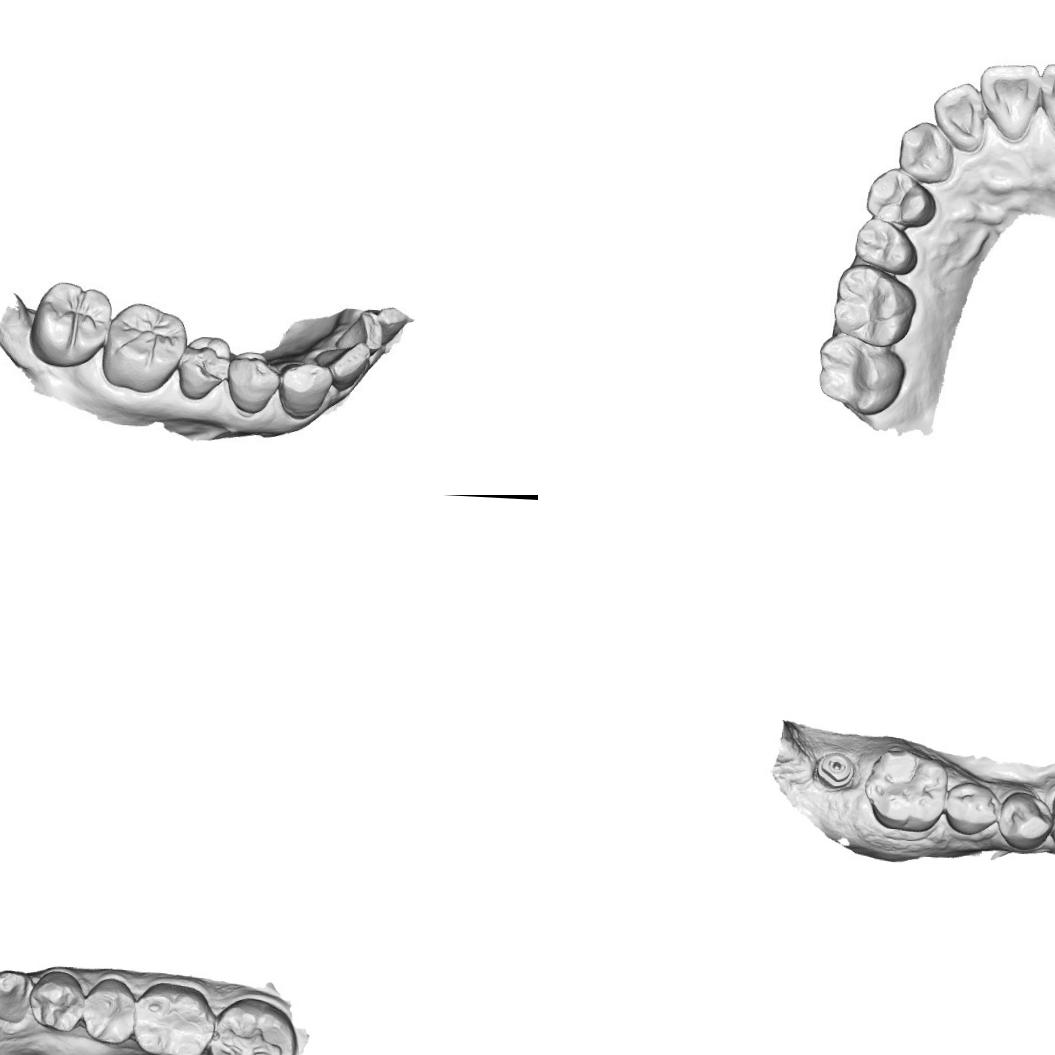canine: (893, 119, 957, 184), (276, 357, 331, 421), (0, 966, 31, 1024)
implant_minus: (807, 748, 857, 796)
incisor: (976, 60, 1044, 142), (927, 78, 990, 156), (315, 343, 372, 389), (332, 306, 383, 356), (1035, 62, 1055, 140)
molar: (96, 299, 189, 396), (811, 330, 907, 418), (861, 743, 951, 833), (29, 276, 112, 371), (830, 264, 920, 348), (129, 979, 214, 1055), (212, 995, 294, 1055)
premolar: (847, 215, 924, 278), (862, 164, 936, 229), (175, 329, 235, 403), (220, 347, 282, 418), (25, 969, 88, 1034), (81, 977, 136, 1046), (996, 788, 1055, 852), (942, 778, 1002, 837)
